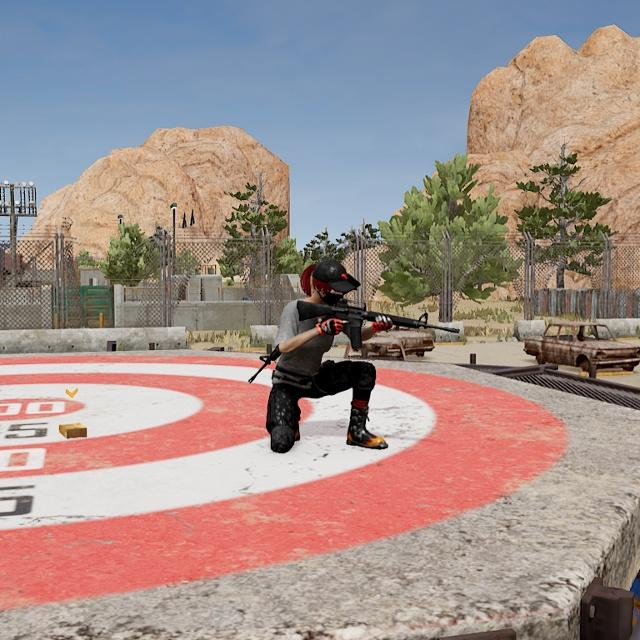head: (307, 258, 351, 307)
people: (261, 258, 392, 456)
